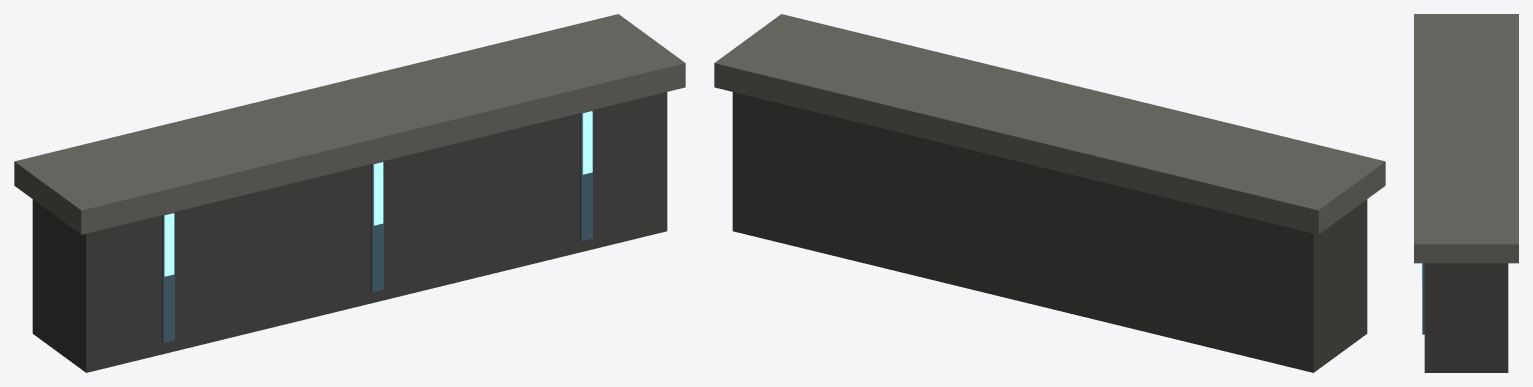
File: s3_well_wall.glb
The picture shows the model from 3 angles, left to right: view 1: azimuth 30°, elevation 25°; view 2: azimuth 150°, elevation 25°; view 3: azimuth 270°, elevation 25°; orthographic projection. The views are drawn at different scales.
Parts seen in each view (by area): view 1: s3_well_wall; view 2: s3_well_wall; view 3: s3_well_wall.
Part boxes in pixels (box(x1,y1,x2,y2)): s3_well_wall: box(14, 14, 685, 372); s3_well_wall: box(714, 14, 1385, 372); s3_well_wall: box(1414, 14, 1518, 372).
Size of the model in its own units: 5.2 by 1.4 by 1.
